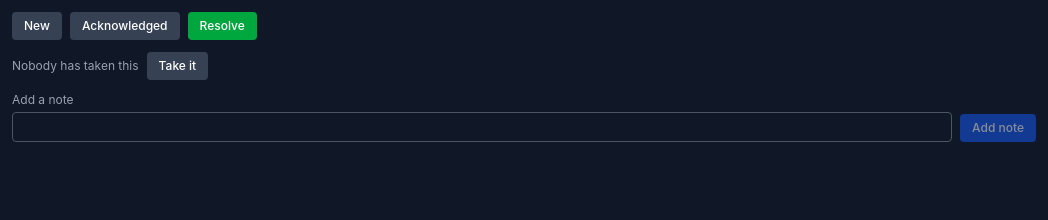
IncidentActions — a refused move › puts the form away once the resolution is accepted
This screenshot has width=1048, height=220.
Click the button "Resolve" at (222, 26), box [188, 12, 257, 40]
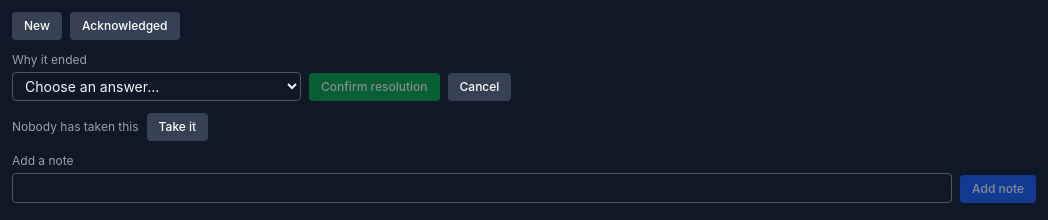
Select "Duplicate of another incident" in the dropdown labelled "Why it ended" at (156, 86), box [12, 72, 301, 101]
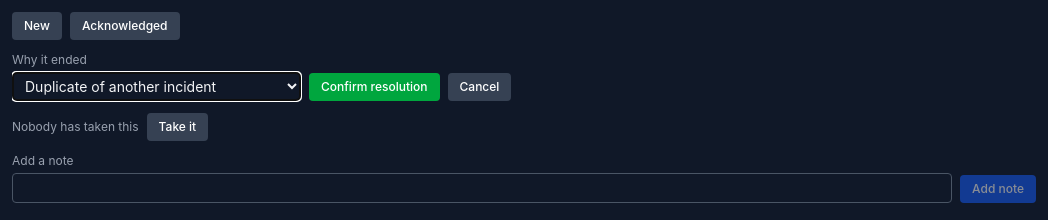
Click the button "Confirm resolution" at (374, 87), box [309, 73, 440, 101]
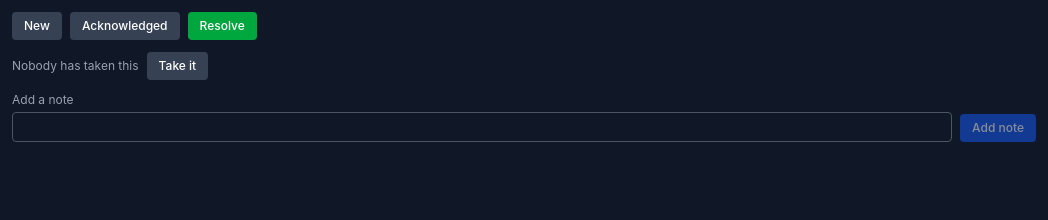
expect the text labelled "Why it ended" is gone: met
